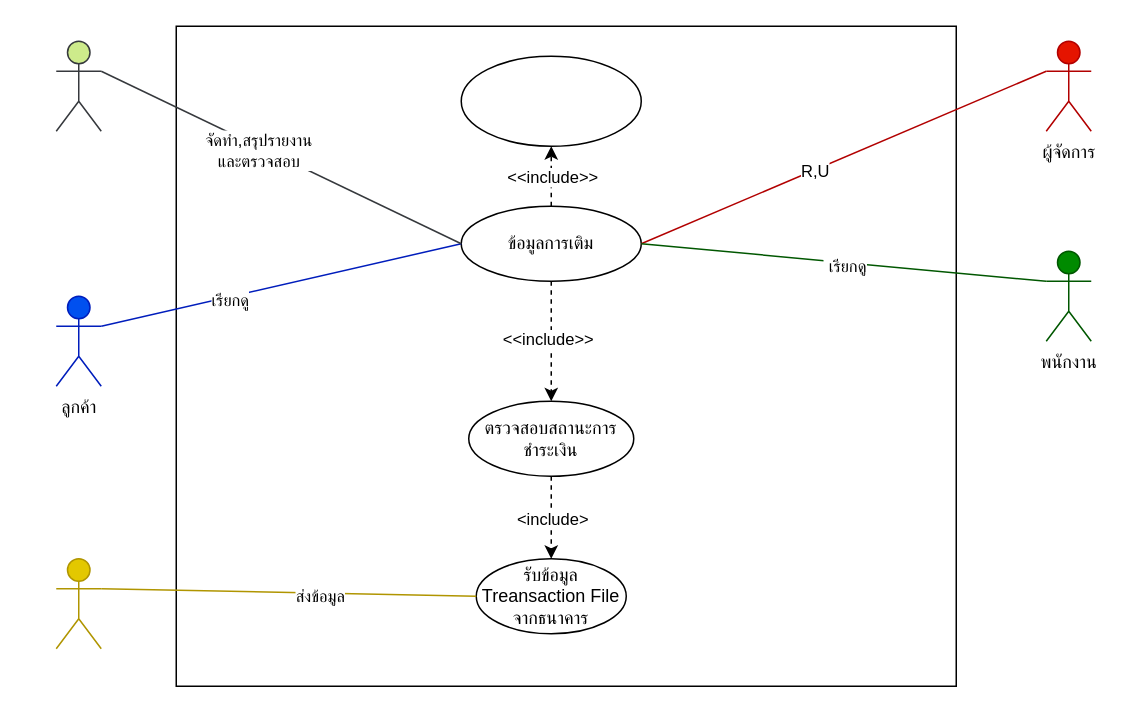
This 1124x713 diagram has some shape labels left out. The box of each missing label's shape, as (x1, y1, x2, y2) in pixels:
พนักงานการเงิน: (55, 40, 101, 131)
พนักงานธนาคาร: (55, 557, 101, 649)
เข้าสู่ระบบ: (460, 55, 641, 146)
